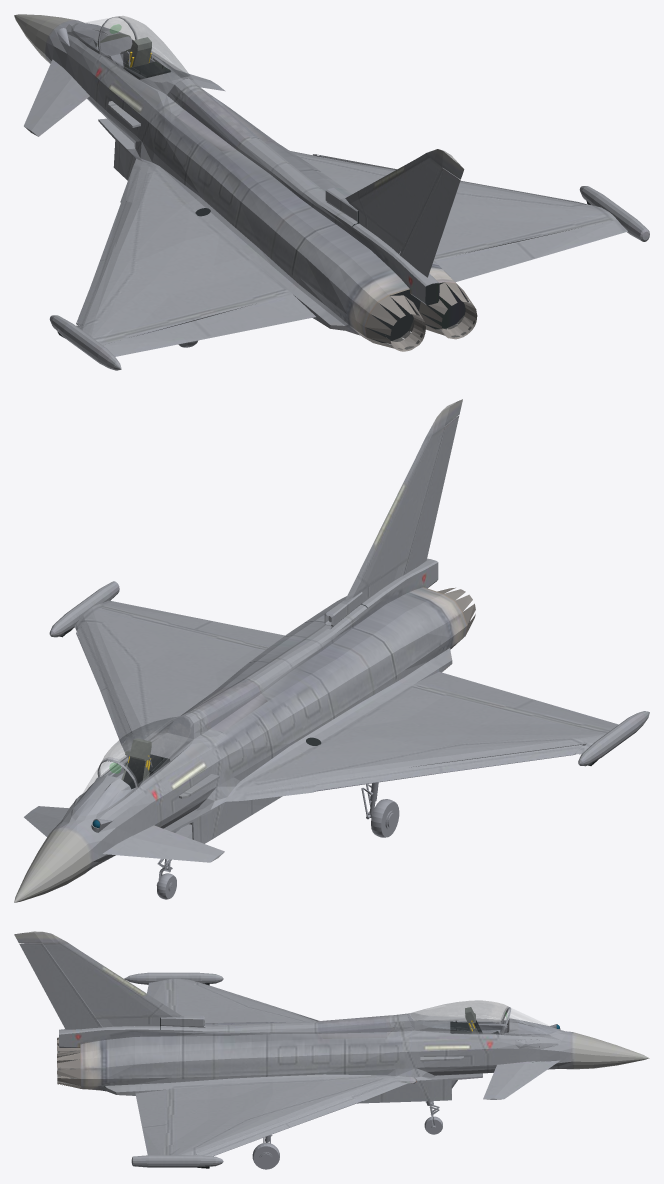
The picture shows the model from 3 angles, top to bottom: view 1: azimuth 30°, elevation 25°; view 2: azimuth 150°, elevation 25°; view 3: azimuth 270°, elevation 25°; orthographic projection. The views are drawn at different scales.
Parts seen in each view (by area): view 1: airframe, nozzle, aileron_l, canopy, aileron_r, rudder, speedbrake, elevator_l; view 2: airframe, canopy, elevator_l, rudder, aileron_l, speedbrake, aileron_r, elevator_r, gear_wheel1_L; view 3: airframe, canopy, rudder, aileron_r, elevator_r, speedbrake, nozzle, gear_wheel1_R.
Boxes of the visible parts, box(x1,y1,x2,y2) form: airframe: box(14, 14, 649, 370); nozzle: box(365, 282, 477, 351); aileron_l: box(103, 294, 315, 356); canopy: box(86, 16, 193, 94); aileron_r: box(434, 220, 627, 282); rudder: box(399, 168, 460, 277); speedbrake: box(177, 90, 267, 151); elevator_l: box(24, 59, 89, 136); airframe: box(14, 399, 649, 902); canopy: box(77, 715, 193, 802); elevator_l: box(103, 825, 224, 862); rudder: box(403, 415, 459, 575); aileron_l: box(417, 671, 618, 729); speedbrake: box(191, 679, 267, 731); aileron_r: box(100, 600, 284, 647); elevator_r: box(24, 806, 68, 836); gear_wheel1_L: box(371, 799, 399, 837); airframe: box(14, 931, 649, 1168); canopy: box(407, 1000, 550, 1034); rudder: box(19, 943, 102, 1029); aileron_r: box(135, 1089, 168, 1155); elevator_r: box(483, 1060, 559, 1099); speedbrake: box(317, 1015, 394, 1038); nozzle: box(57, 1037, 81, 1088); gear_wheel1_R: box(252, 1142, 279, 1169).
Size of the model in its own units: 11.23 by 5.65 by 16.11.
39 materials, 35 textured.
